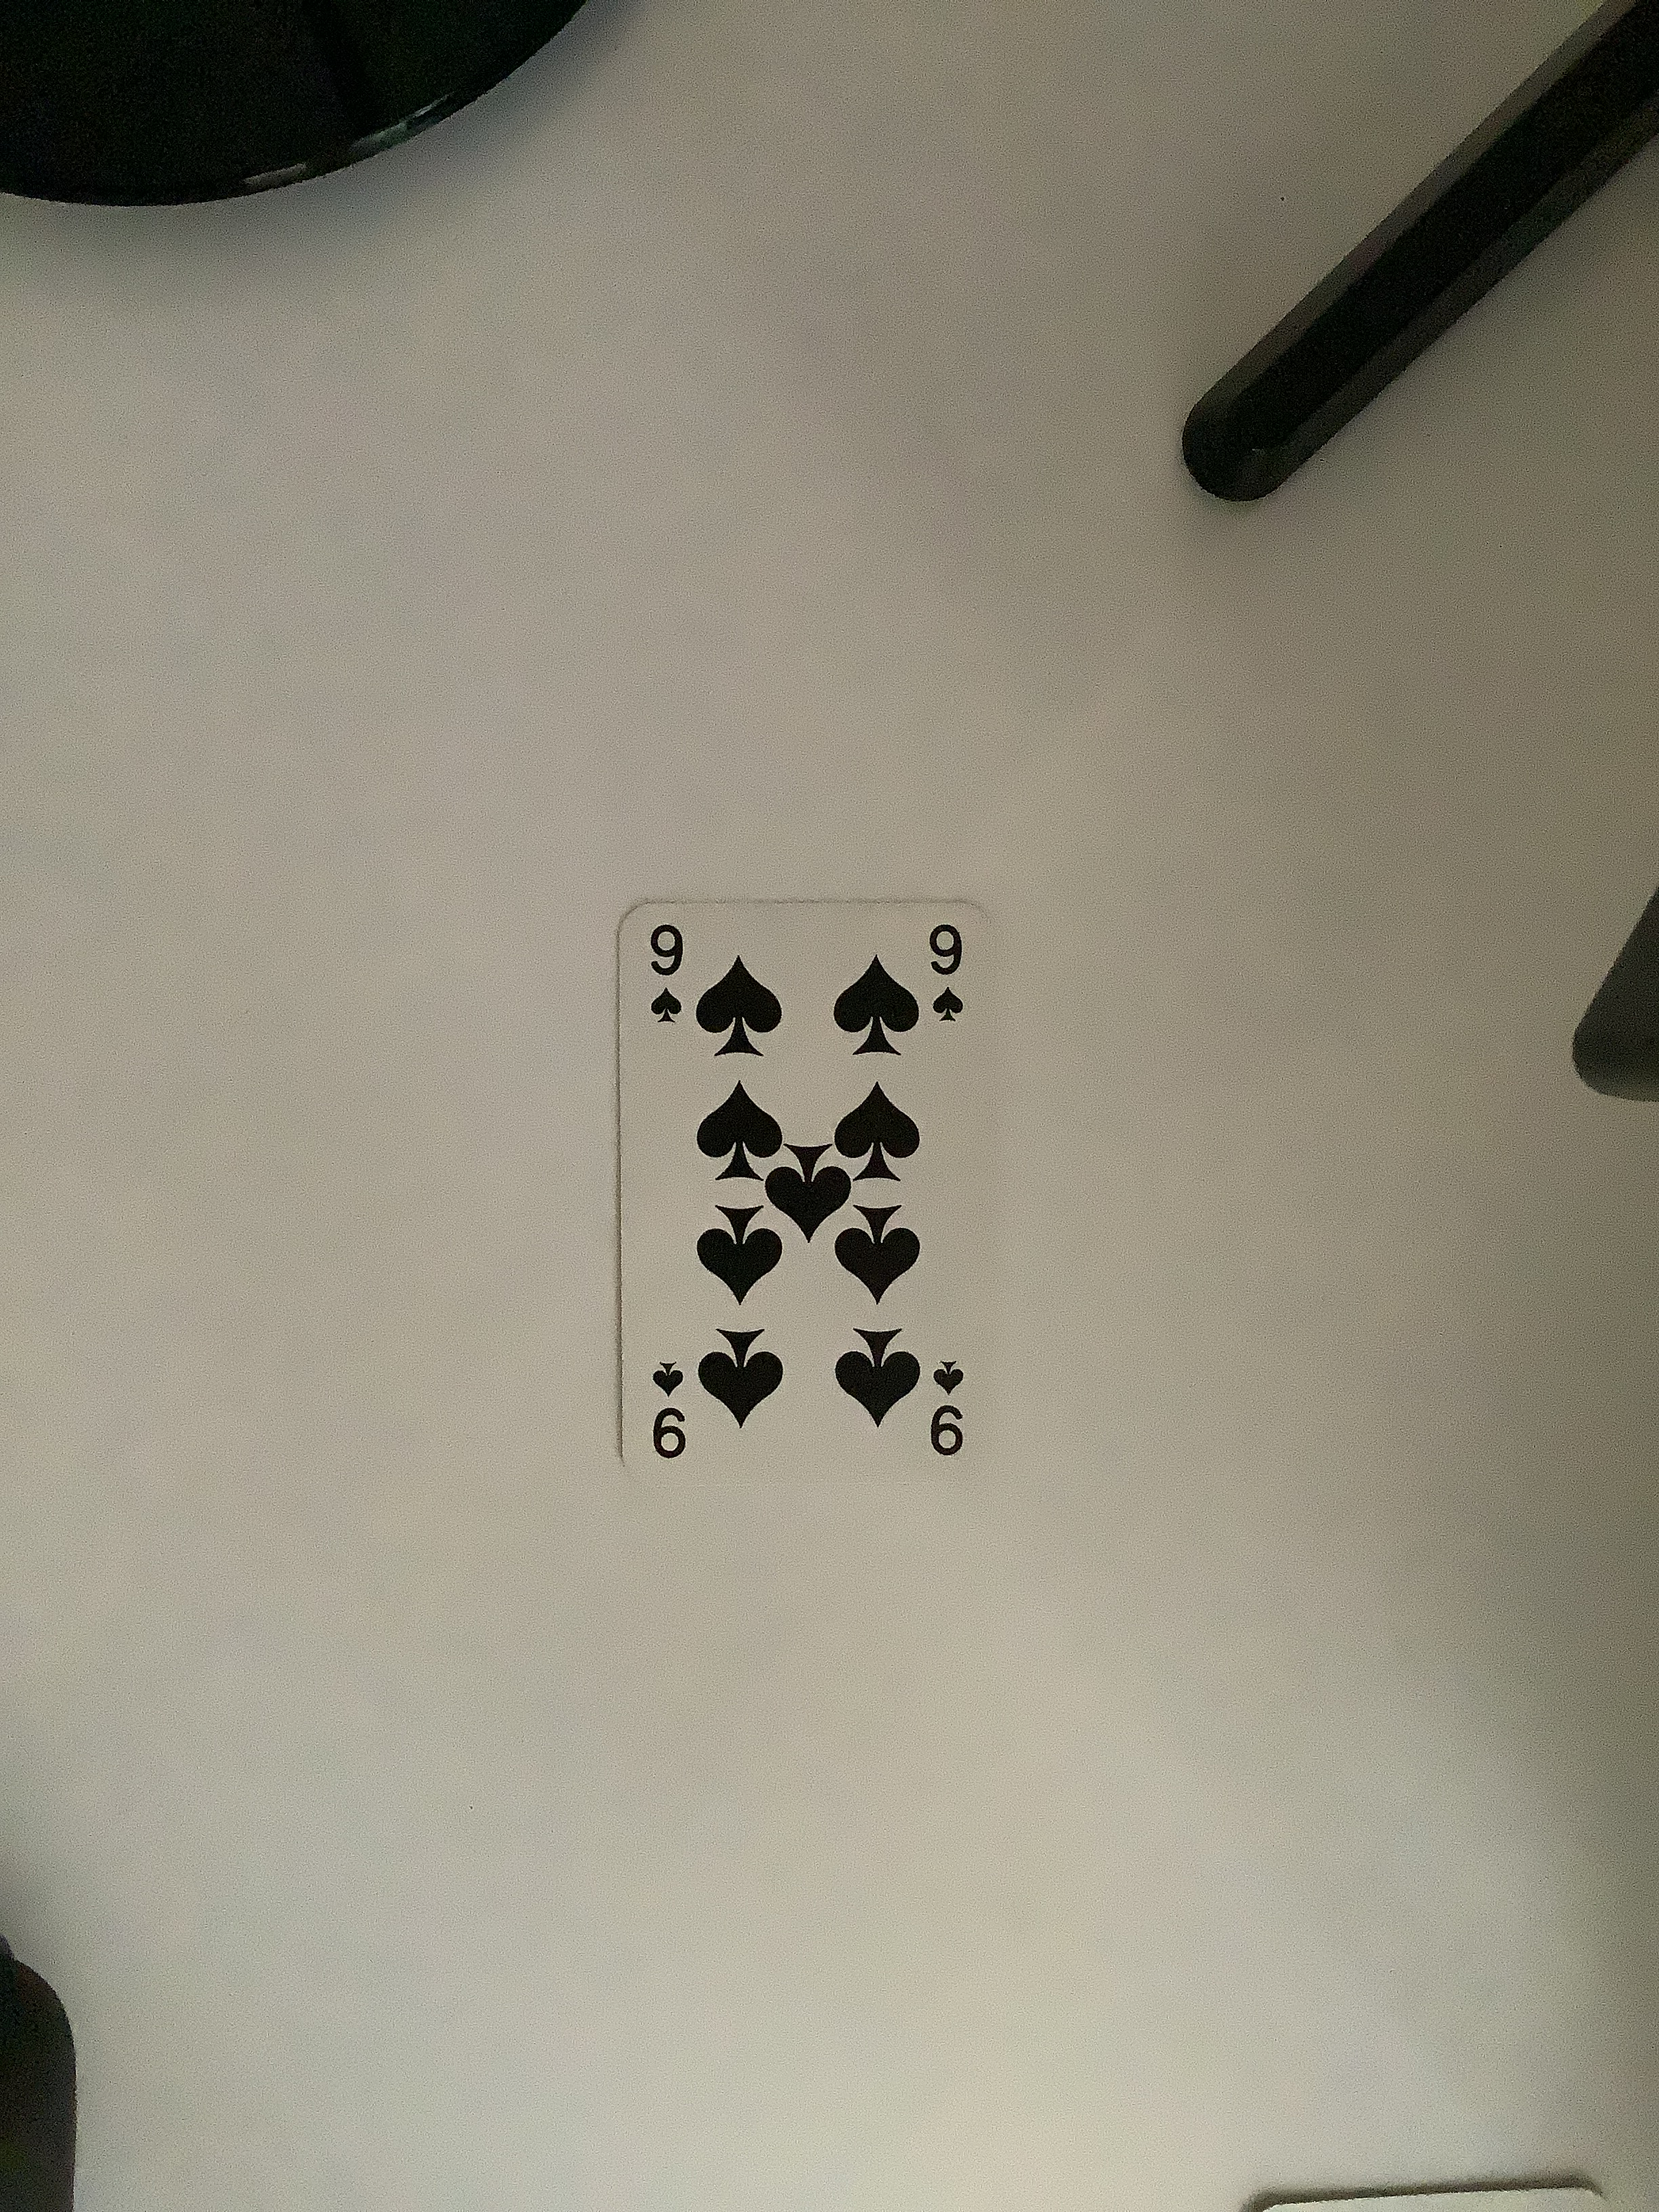♠ 9: (598, 887, 1014, 1510)
